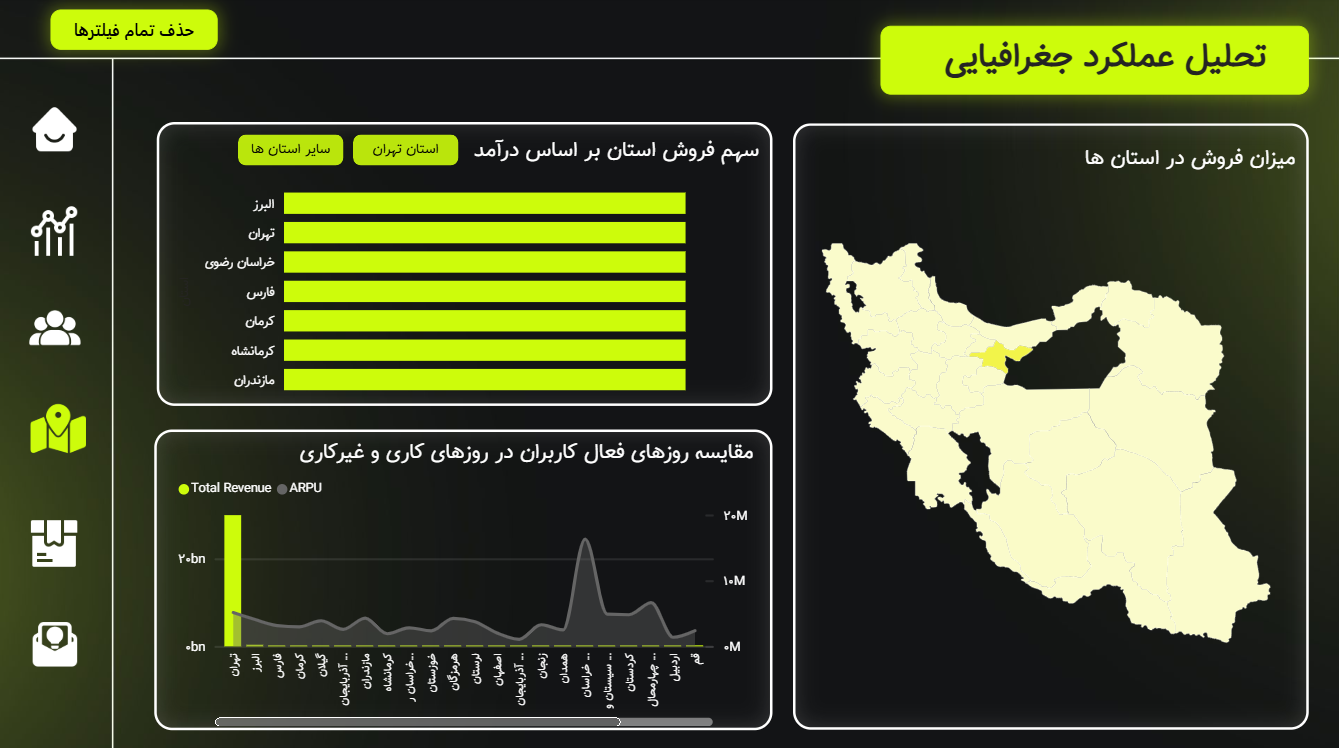

The page's visual inventory and layout, read from the dashboard file:
{"tool":"powerbi","page":{"name":"Page 1","canvas":[1280,720],"ordinal":1},"visuals":[{"type":"group","id":"g1","title":"UI_Background","box":[0,0,1279.6,720.7],"z":0},{"type":"shape","title":"Shape_Up","box":[0,0,1280.3,60.4],"z":0,"group":"g1"},{"type":"shape","box":[388,136,227,136],"z":0,"group":"g4"},{"type":"shape","box":[141,137,228,136],"z":0,"group":"g2"},{"type":"shape","title":"Shape_Left","box":[0,56.3,109.8,664.2],"z":1000,"group":"g1"},{"type":"group","id":"g2","title":"Cared_1","box":[141,131,228,142],"z":1000,"group":"g3"},{"type":"shape","title":"Shape_Cared_1","box":[154.6,151.8,10.8,58],"z":1000,"group":"g2"},{"type":"shape","title":"Shape_Cared_1","box":[403.3,162.3,10.3,53.5],"z":1000,"group":"g4"},{"type":"group","id":"g3","title":"G_Users","box":[140,23,1106,626.4],"z":2000},{"type":"image","title":"Btn_Home","box":[20.2,98.8,67.9,54.8],"z":2000,"group":"g1"},{"type":"textbox","title":"Title_Cared_1","box":[165.7,131,168.5,46.1],"z":2000,"group":"g2"},{"type":"group","id":"g4","title":"Cared_2","box":[388,136,227,136],"z":2000,"group":"g3"},{"type":"textbox","title":"Title_Cared_1","box":[413.8,143.1,160.1,42.5],"z":2000,"group":"g4"},{"type":"shape","title":"Shape_Main","box":[109.5,59.5,1170.2,660.7],"z":3000,"group":"g1"},{"type":"card","title":"Profit_Cared_1","fields":{"Values":["Dim_Measure.Sales MoM %"]},"box":[155.1,218.6,43.5,33.3],"z":3000,"group":"g2"},{"type":"card","title":"Profit_Cared_1","fields":{"Values":["Dim_Measure.Profit MoM %"]},"box":[403.8,223.8,41.3,30.7],"z":3000,"group":"g4"},{"type":"clusteredBarChart","title":"پرفروش ترین سرویس","fields":{"Category":["Fact_Sales.نوع سرویس"],"Y":["Dim_Measure.Total Profit"]},"box":[636,137,610,504],"z":4000,"group":"g3"},{"type":"image","title":"Btn_Analytis","box":[25,188.1,57.1,69],"z":4000,"group":"g1"},{"type":"textbox","title":"Since_Of_Mounth_1","box":[192.9,216.8,120.5,38.5],"z":4000,"group":"g2"},{"type":"textbox","title":"Since_Of_Mounth_1","box":[439.7,222.2,114.5,35.5],"z":4000,"group":"g4"},{"type":"card","fields":{"Values":["Dim_Measure.Total Sales"]},"box":[162.7,165.8,185,61],"z":5000,"group":"g2"},{"type":"card","fields":{"Values":["Dim_Measure.Total Profit"]},"box":[406.9,173.8,162.1,57.1],"z":5000,"group":"g4"},{"type":"lineChart","title":"میزان فروش","fields":{"Y":["Dim_Measure.Total Profit","Dim_Measure.Total Sales"],"Category":["Dim_Date.jmonthT"]},"box":[140,309,475,333],"z":5000,"group":"g3"},{"type":"image","title":"Btn_Map","box":[25,385.7,57.1,57.1],"z":5000,"group":"g1"},{"type":"shape","title":"Box_Clear_All_Filter","box":[50.2,12.1,159.3,38.1],"z":6000,"group":"g1"},{"type":"textbox","title":"subject","box":[870.1,30.8,356.7,67.5],"z":6000,"group":"g3"},{"type":"shape","title":"Shape_Btn_Filter","box":[746.1,30.7,53,51],"z":7000,"group":"g3"},{"type":"image","title":"Btn_Package","box":[25,490.5,57.1,59.5],"z":7000,"group":"g1"},{"type":"shape","title":"Line_Left","box":[102.7,60.3,12.8,659.8],"z":8000,"group":"g1"},{"type":"image","title":"Btn_help","box":[24.7,590.1,57.6,52.1],"z":9000,"group":"g1"},{"type":"image","title":"Btn_Users","box":[22.6,285.7,63.1,58.3],"z":10000,"group":"g1"},{"type":"shape","title":"Line_UP","box":[0,53.4,1279.9,13.2],"z":11000,"group":"g1"},{"type":"shape","title":"Box_Subject","box":[840.5,27.4,407.9,65.3],"z":12000,"group":"g1"}]}

Visuals, with their boxes in screenshot pixels (x1, y1, x2, y2), scaled from the page's 1280x720 canvas onto the 1339x748 screenshot:
"UI_Background" group: x1=0 y1=0 x2=1338 y2=747
"Shape_Up" shape: x1=0 y1=0 x2=1338 y2=63
shape: x1=406 y1=141 x2=643 y2=283
shape: x1=147 y1=142 x2=386 y2=284
"Shape_Left" shape: x1=0 y1=58 x2=115 y2=747
"Cared_1" group: x1=147 y1=136 x2=386 y2=284
"Shape_Cared_1" shape: x1=162 y1=158 x2=173 y2=218
"Shape_Cared_1" shape: x1=422 y1=169 x2=433 y2=224
"G_Users" group: x1=146 y1=24 x2=1303 y2=675
"Btn_Home" image: x1=21 y1=103 x2=92 y2=160
"Title_Cared_1" textbox: x1=173 y1=136 x2=350 y2=184
"Cared_2" group: x1=406 y1=141 x2=643 y2=283
"Title_Cared_1" textbox: x1=433 y1=149 x2=600 y2=193
"Shape_Main" shape: x1=115 y1=62 x2=1338 y2=747
"Profit_Cared_1" card: x1=162 y1=227 x2=208 y2=262
"Profit_Cared_1" card: x1=422 y1=233 x2=466 y2=264
"پرفروش ترین سرویس" clusteredBarChart: x1=665 y1=142 x2=1303 y2=666
"Btn_Analytis" image: x1=26 y1=195 x2=86 y2=267
"Since_Of_Mounth_1" textbox: x1=202 y1=225 x2=328 y2=265
"Since_Of_Mounth_1" textbox: x1=460 y1=231 x2=580 y2=268
card - Dim_Measure.Total Sales: x1=170 y1=172 x2=364 y2=236
card - Dim_Measure.Total Profit: x1=426 y1=181 x2=595 y2=240
"میزان فروش" lineChart: x1=146 y1=321 x2=643 y2=667
"Btn_Map" image: x1=26 y1=401 x2=86 y2=460
"Box_Clear_All_Filter" shape: x1=53 y1=13 x2=219 y2=52
"subject" textbox: x1=910 y1=32 x2=1283 y2=102
"Shape_Btn_Filter" shape: x1=780 y1=32 x2=836 y2=85
"Btn_Package" image: x1=26 y1=510 x2=86 y2=571
"Line_Left" shape: x1=107 y1=63 x2=121 y2=747
"Btn_help" image: x1=26 y1=613 x2=86 y2=667
"Btn_Users" image: x1=24 y1=297 x2=90 y2=357
"Line_UP" shape: x1=0 y1=55 x2=1338 y2=69
"Box_Subject" shape: x1=879 y1=28 x2=1306 y2=96
